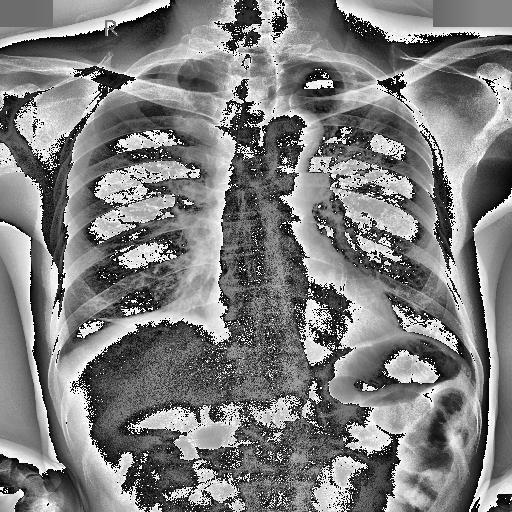0- Aortic enlargement: (262, 106, 322, 158), (262, 110, 324, 158), (267, 109, 323, 159)
10- Pleural effusion: (48, 348, 74, 364)
11- Pleural thickening: (48, 348, 74, 364)
13- Pulmonary fibrosis: (353, 146, 396, 174), (83, 314, 143, 330), (86, 312, 138, 326)
